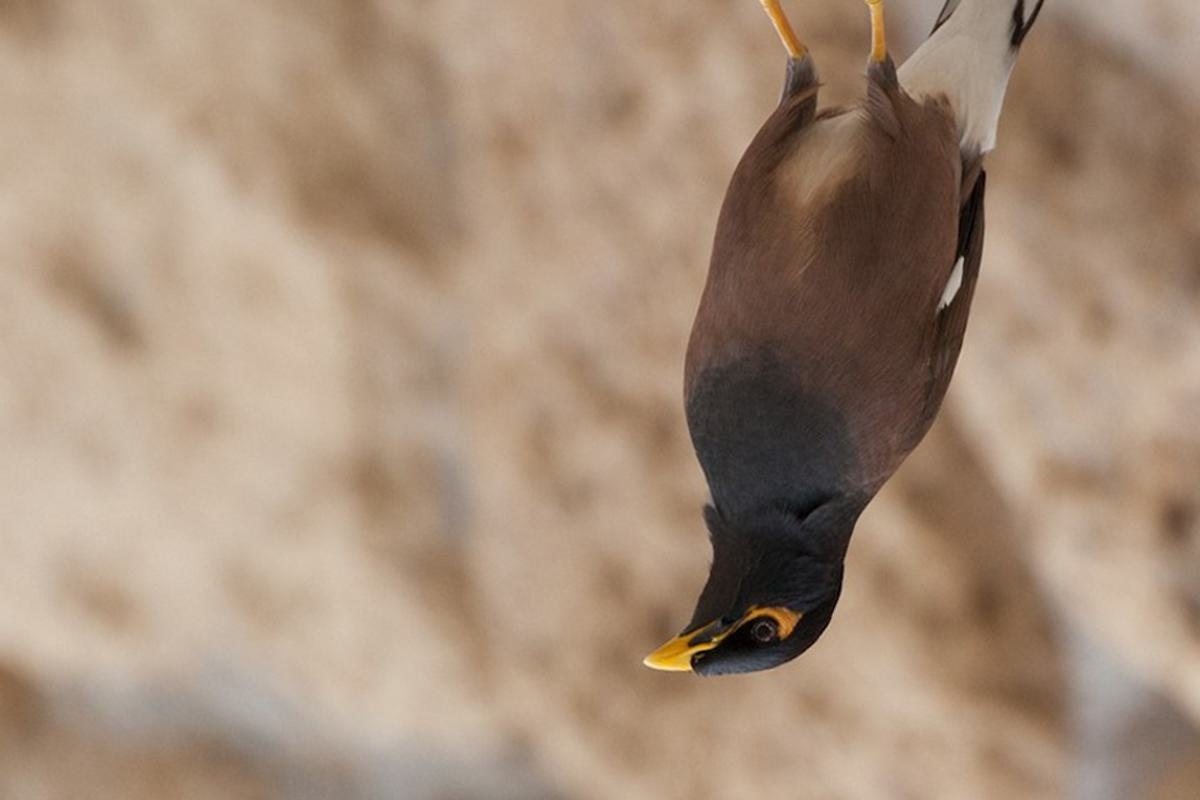myna: (613, 1, 1040, 701)
